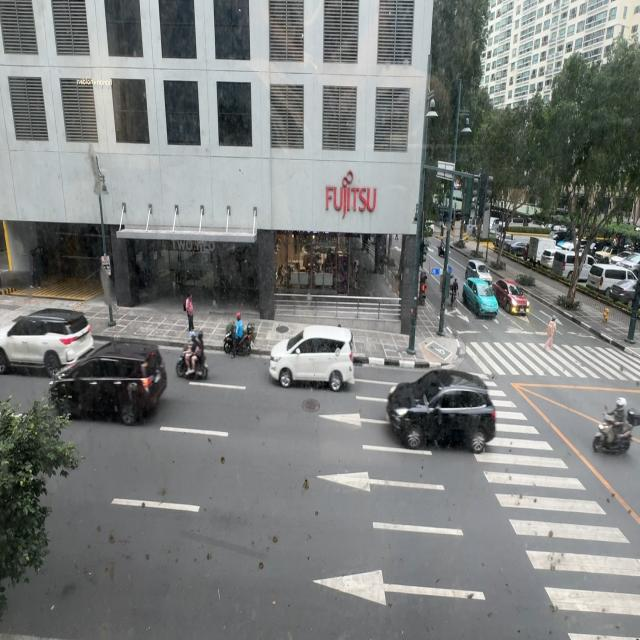crossing: (542, 314, 557, 352)
pedestrain: (31, 246, 46, 290), (184, 293, 194, 335)
